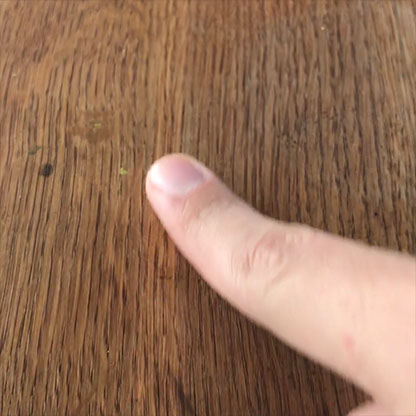fingertip: (128, 141, 227, 227)
